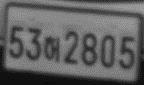0: (99, 34, 116, 68)
2: (63, 30, 78, 65)
3: (24, 26, 42, 61)
5: (118, 35, 136, 69), (8, 25, 24, 58)
8: (81, 31, 98, 67)
허: (43, 35, 61, 63)
